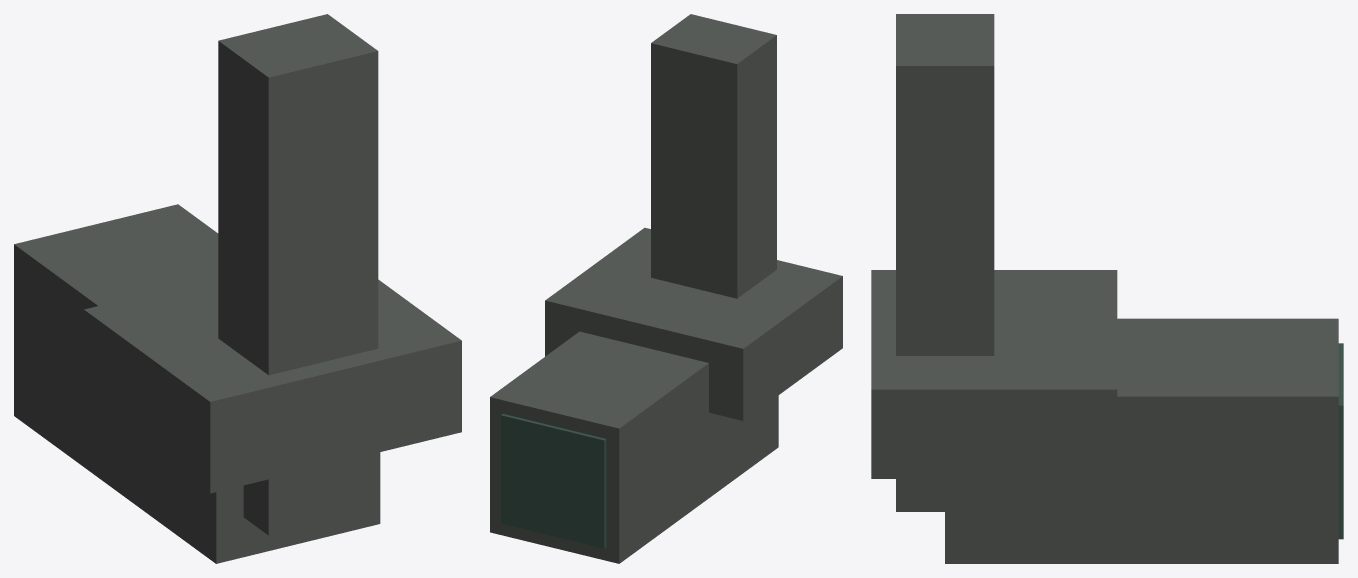
File: nvg_pvs7.glb
The picture shows the model from 3 angles, left to right: view 1: azimuth 30°, elevation 25°; view 2: azimuth 150°, elevation 25°; view 3: azimuth 270°, elevation 25°; orthographic projection. The views are drawn at different scales.
Visible parts, largest first — view 1: goggle_mesh; view 2: goggle_mesh; view 3: goggle_mesh.
Part boxes in pixels (left/top/right/bottom): goggle_mesh: left=14, top=14, right=461, bottom=563; goggle_mesh: left=490, top=14, right=842, bottom=563; goggle_mesh: left=871, top=14, right=1343, bottom=563.
Size of the model in its own units: 0.115 by 0.2175 by 0.192.
